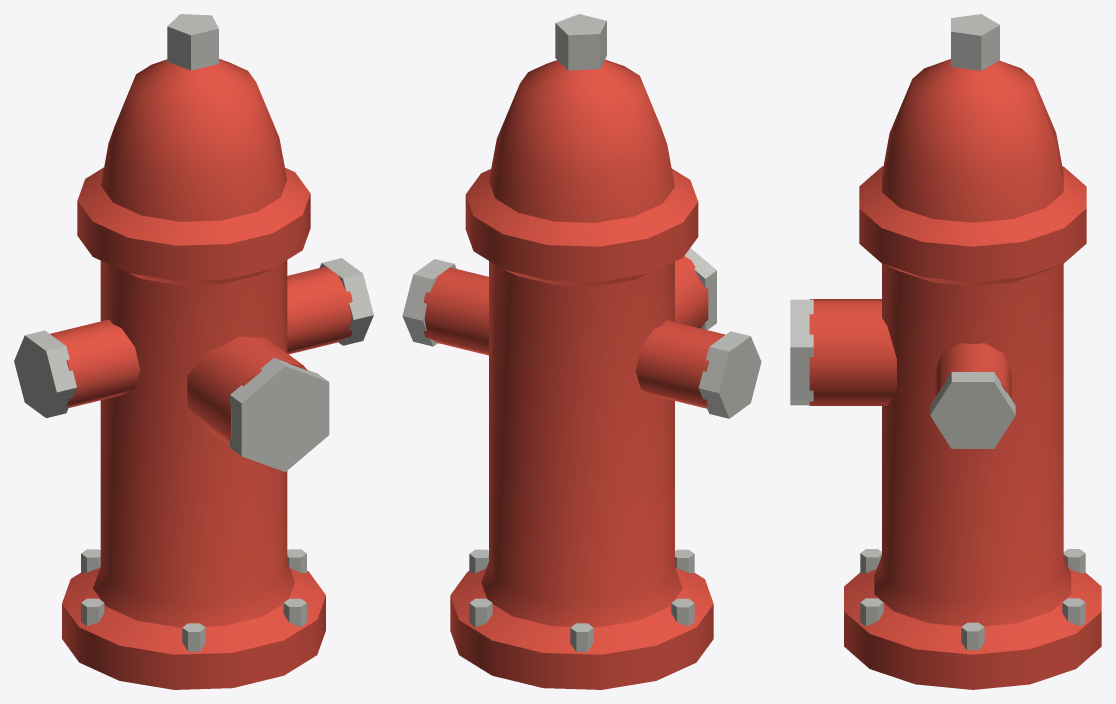
File: hydrant.glb
3 renders of one model, left to right at view 1: azimuth 30°, elevation 25°; view 2: azimuth 150°, elevation 25°; view 3: azimuth 270°, elevation 25°, orthographic.
Parts seen in each view (by area): view 1: Hydrant; view 2: Hydrant; view 3: Hydrant.
Boxes of the visible parts, left/top/right/bottom form: Hydrant: left=14, top=14, right=373, bottom=689; Hydrant: left=402, top=14, right=761, bottom=689; Hydrant: left=790, top=14, right=1101, bottom=689.
Bounding box in the file's own units: 0.47 × 0.865 × 0.4007.
